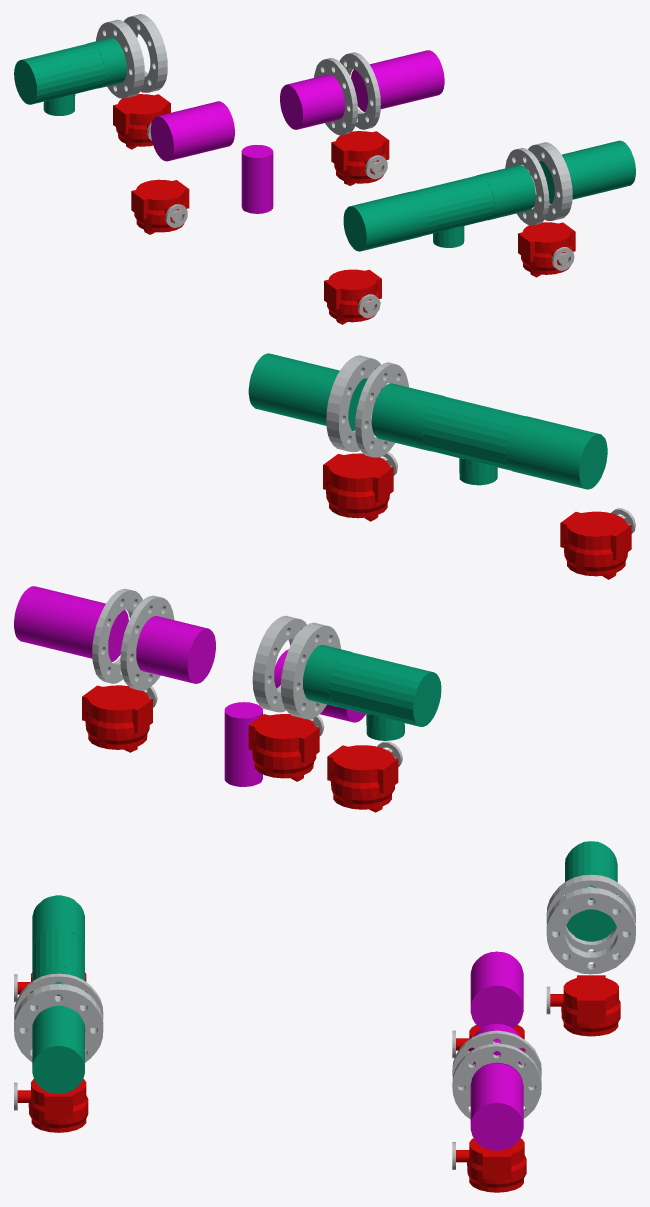
The picture shows the model from 3 angles, top to bottom: view 1: azimuth 30°, elevation 25°; view 2: azimuth 150°, elevation 25°; view 3: azimuth 270°, elevation 25°; orthographic projection. The views are drawn at different scales.
Size of the model in its own units: 1.54 by 0.7161 by 1.98.
